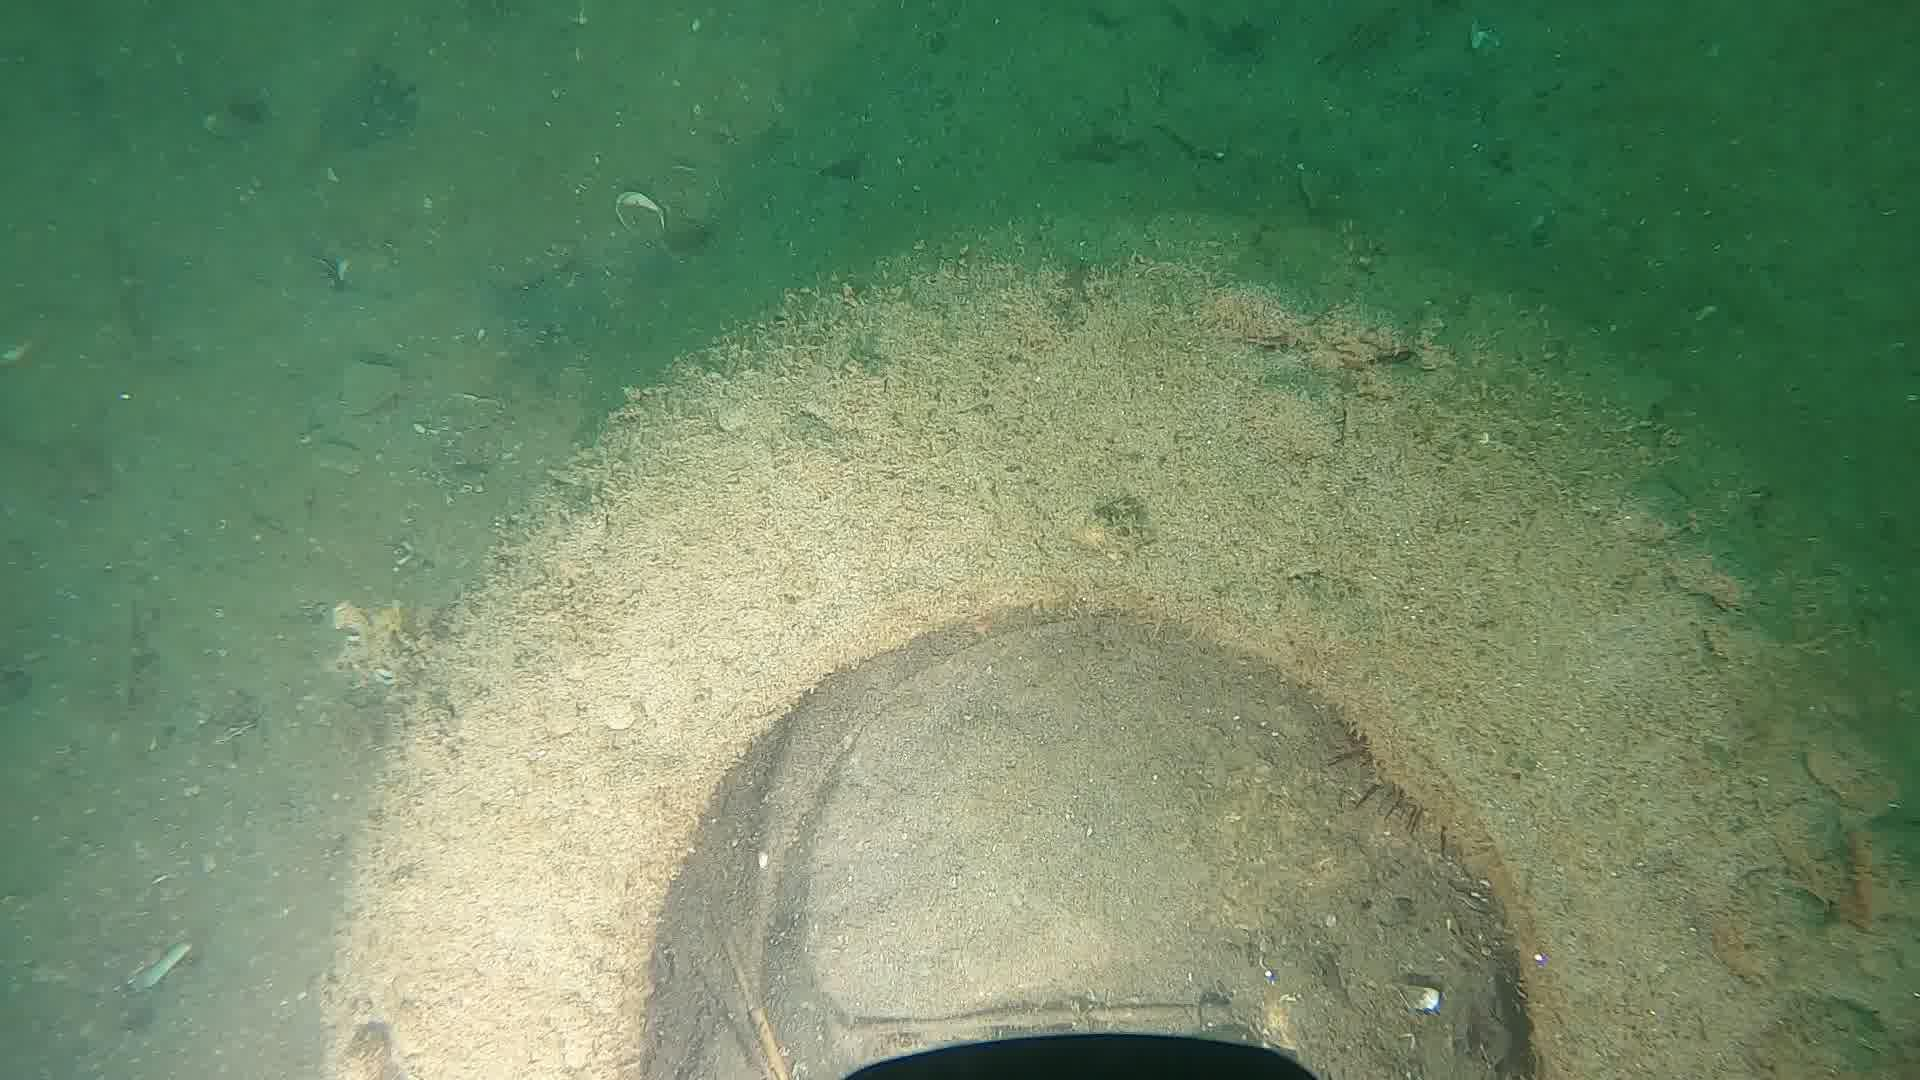tire: (315, 210, 1920, 1080)
